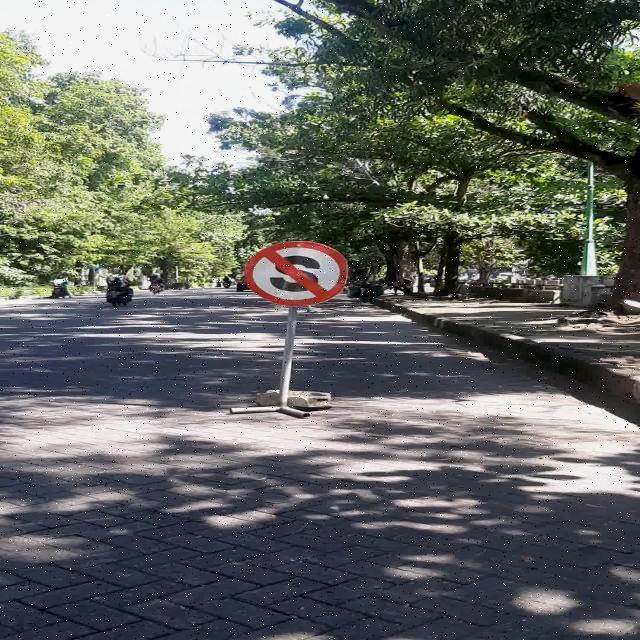Dilarang Berhenti: (243, 241, 348, 306)
